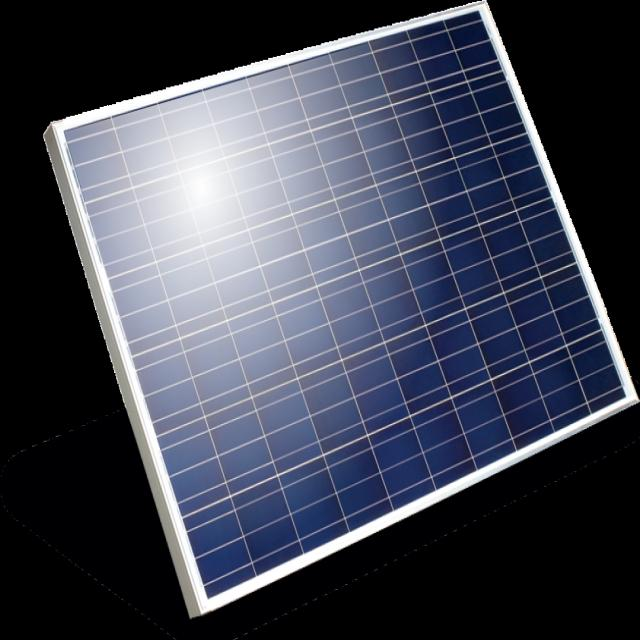clean-solar-panel: (54, 4, 631, 610)
